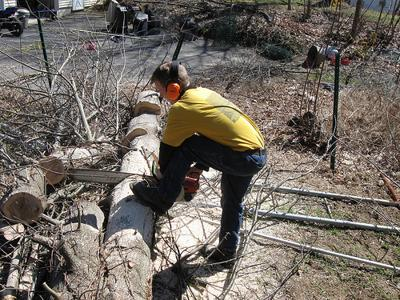person: (130, 61, 266, 268)
